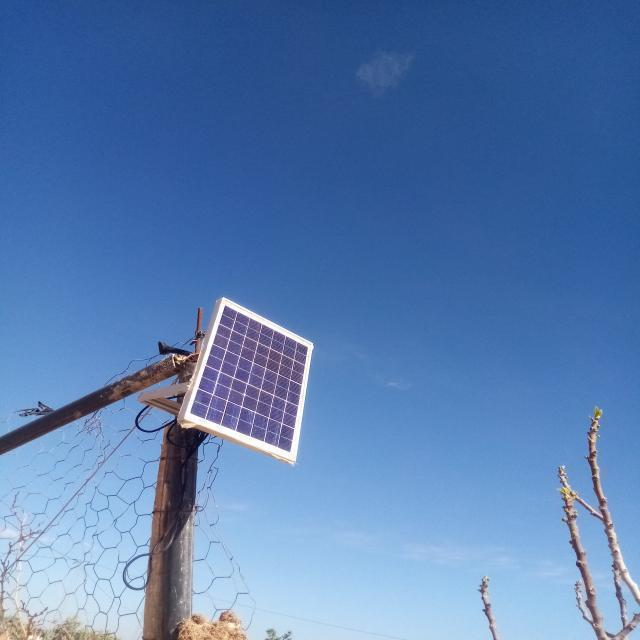Normal Solar Panel: (183, 298, 314, 463)
